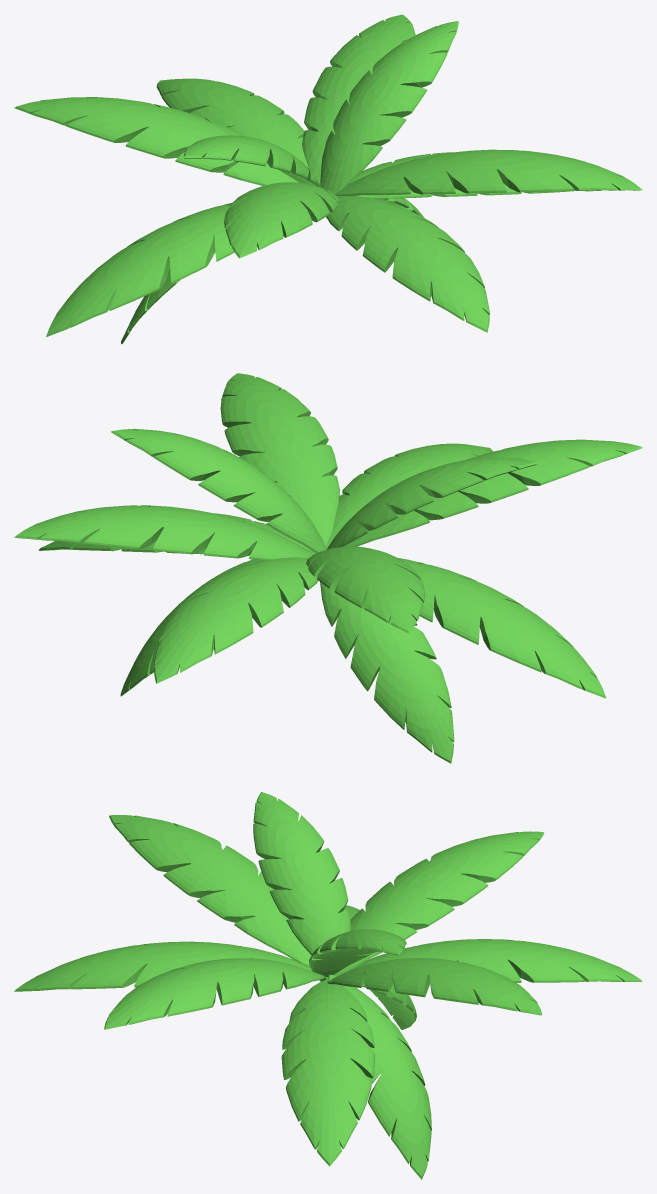
Rendered from CartoonTreeTopImport.fbx.
3 views of the same model, one above another, from view 1: azimuth 30°, elevation 25°; view 2: azimuth 150°, elevation 25°; view 3: azimuth 270°, elevation 25° (orthographic). The views are drawn at different scales.
Parts seen in each view (by area): view 1: Sphere; view 2: Sphere; view 3: Sphere.
Part boxes in pixels (left/top/right/bottom): Sphere: left=14, top=14, right=642, bottom=344; Sphere: left=14, top=373, right=642, bottom=763; Sphere: left=14, top=792, right=642, bottom=1179.
Bounding box in the file's own units: 4.29 × 1.83 × 4.39.
